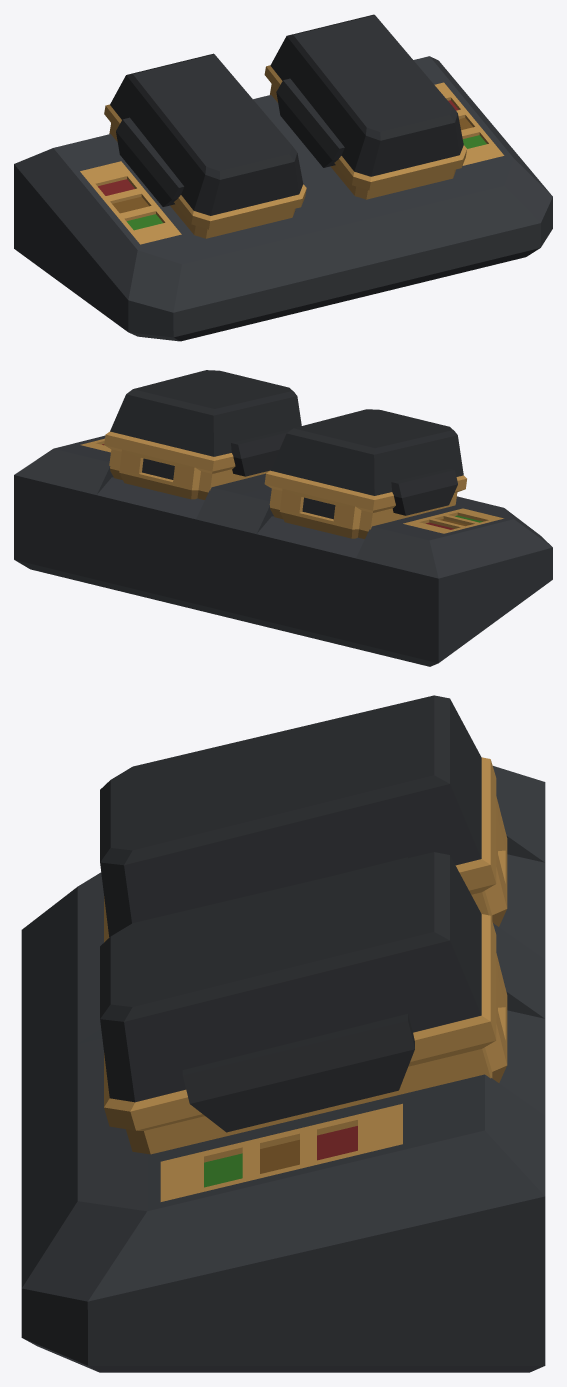
File: SM_Prop_Battery_Charger_Dual_01.glb
3 renders of one model, top to bottom at view 1: azimuth 30°, elevation 25°; view 2: azimuth 150°, elevation 25°; view 3: azimuth 270°, elevation 25°, orthographic. The views are drawn at different scales.
Parts seen in each view (by area): view 1: SM_Prop_Battery_Charger_Dual_01; view 2: SM_Prop_Battery_Charger_Dual_01; view 3: SM_Prop_Battery_Charger_Dual_01.
Part boxes in pixels (bbox=[...]): SM_Prop_Battery_Charger_Dual_01: bbox=[14, 14, 552, 341]; SM_Prop_Battery_Charger_Dual_01: bbox=[14, 370, 552, 666]; SM_Prop_Battery_Charger_Dual_01: bbox=[21, 695, 545, 1372].
Size of the model in its own units: 0.4234 by 0.1734 by 0.226.
Materials: 1 (1 with a texture image).
